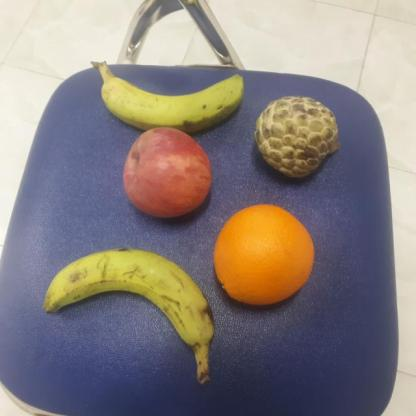annona: (251, 93, 341, 178)
apple: (118, 126, 214, 220)
banana: (41, 245, 216, 351), (100, 67, 254, 131)
orange: (212, 201, 320, 307)
